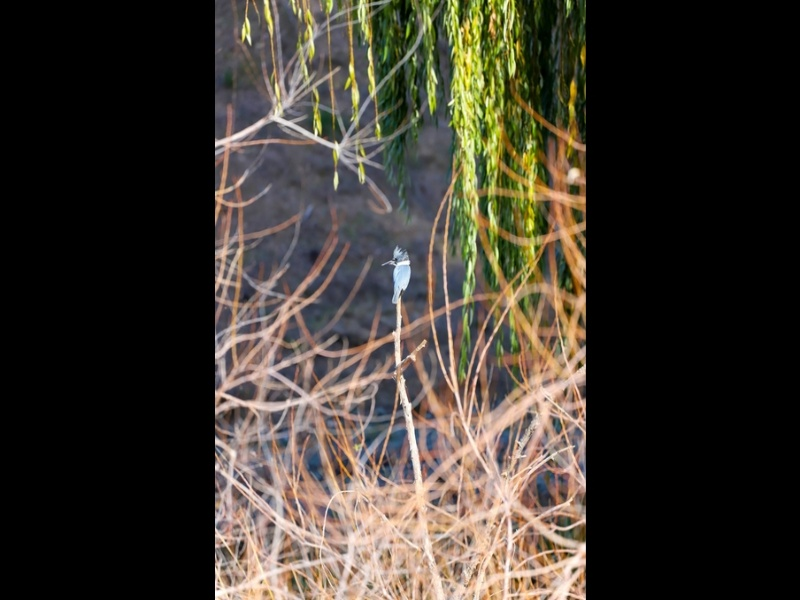kingfisher: (382, 244, 414, 303)
